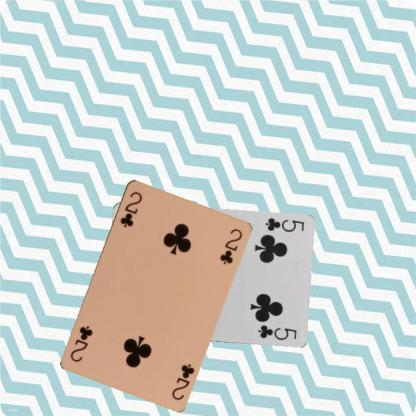2c: (169, 361, 196, 401), (118, 188, 144, 229)
5c: (262, 216, 305, 234)
